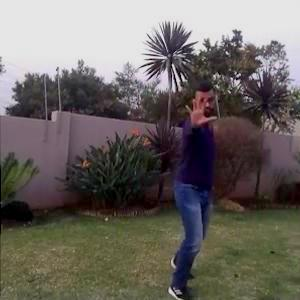follow_hand: (181, 91, 219, 132)
